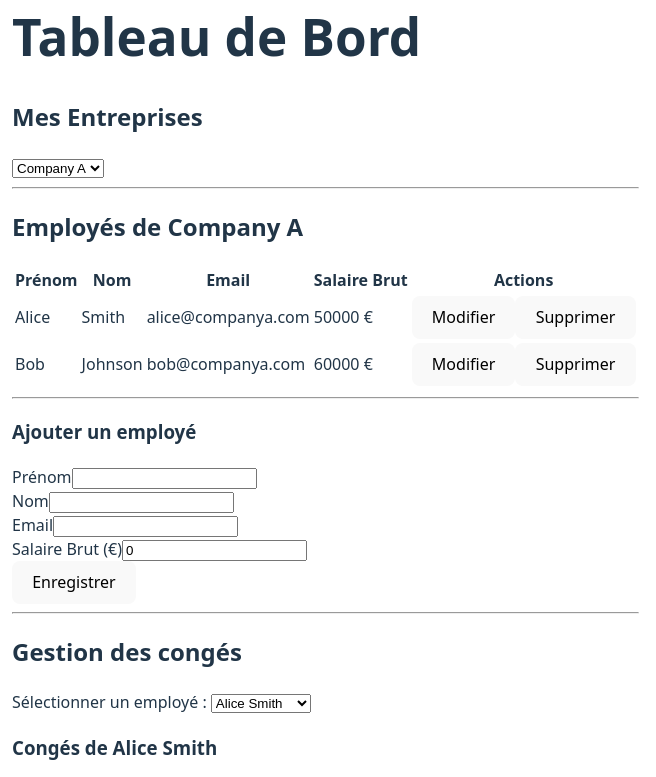
Test: DashboardPage › should display companies and employees correctly
This screenshot has width=656, height=777.
Check: the text "Alice" is shown, box [14,295,79,340]
Check: the text "Smith" is shown, box [81,295,144,340]
// Use getAllByRole to get the first combobox (company selector)
Select "Company B" in the 1st dropdown at (58,168), box [12,159,104,178]
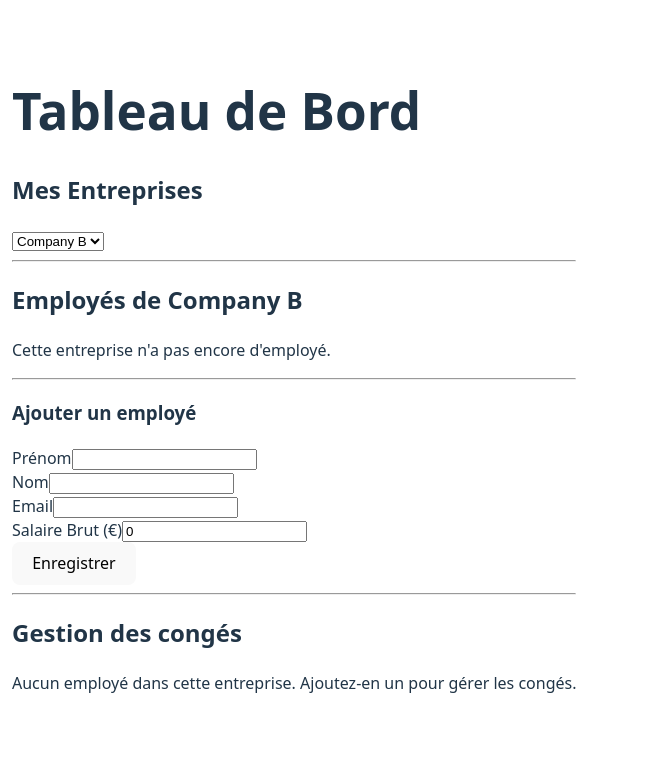
Check: the text "Cette entreprise n'a pas encore d'employé." is shown, box [12,339,331,361]
